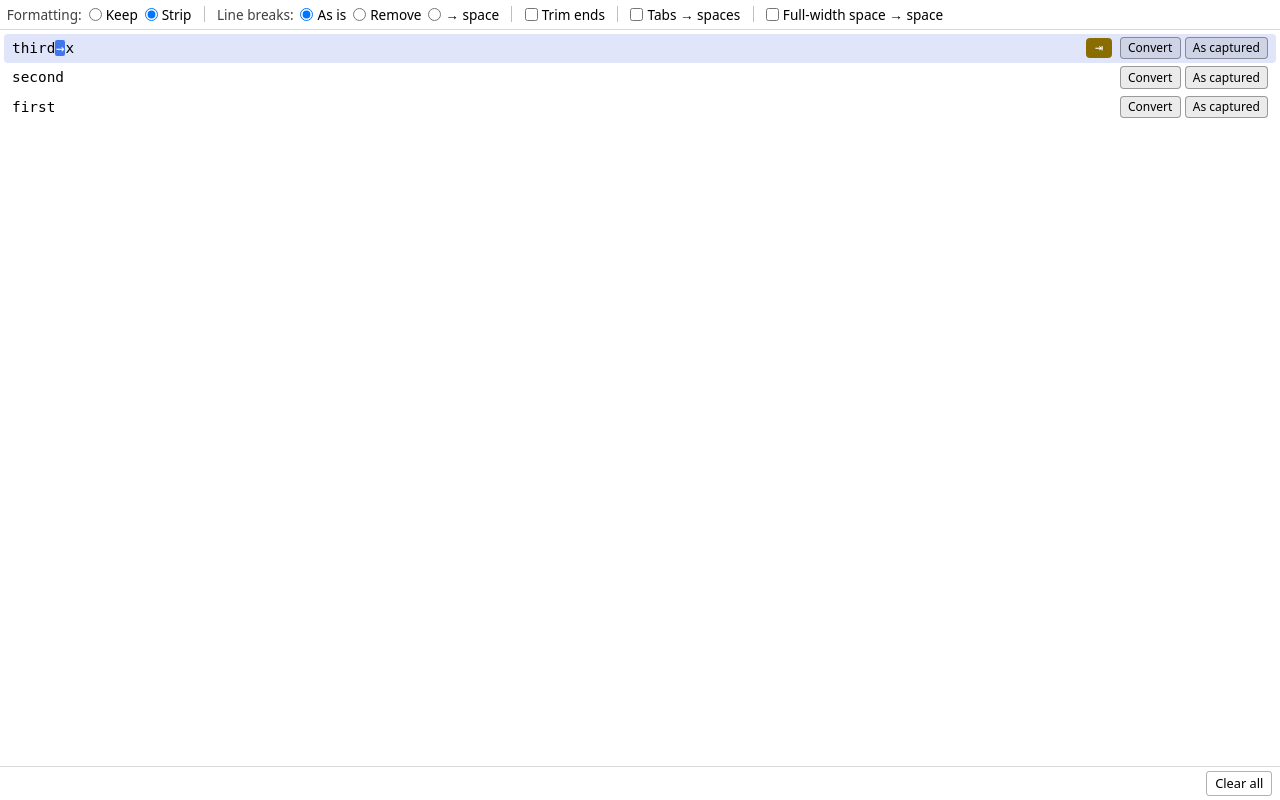
MainWindow — transfer › reports a write failure as an error notice (6.10)
The image size is (1280, 800).
Expected: the number of options is 3, 4,34 -> 1276,63; 4,63 -> 1276,92; 4,92 -> 1276,122
Click the button "Convert" in the row of "third" at (1150, 48), box 1120,37 -> 1181,59
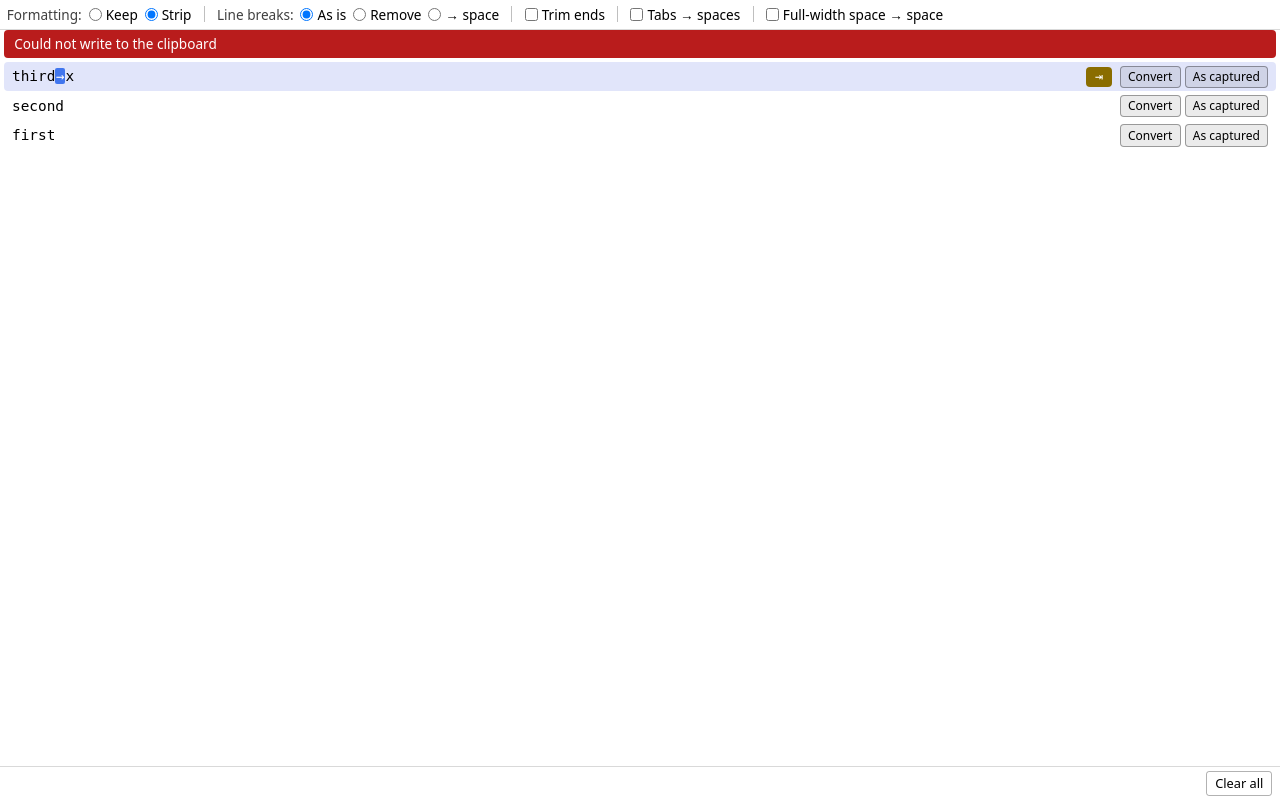
Expected: the message reads "Could not write to the clipboard", 4,30 -> 1276,58
